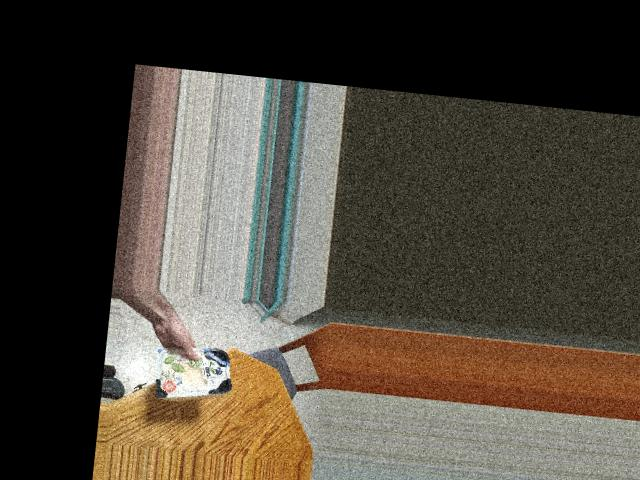cheese: (162, 343, 237, 401)
